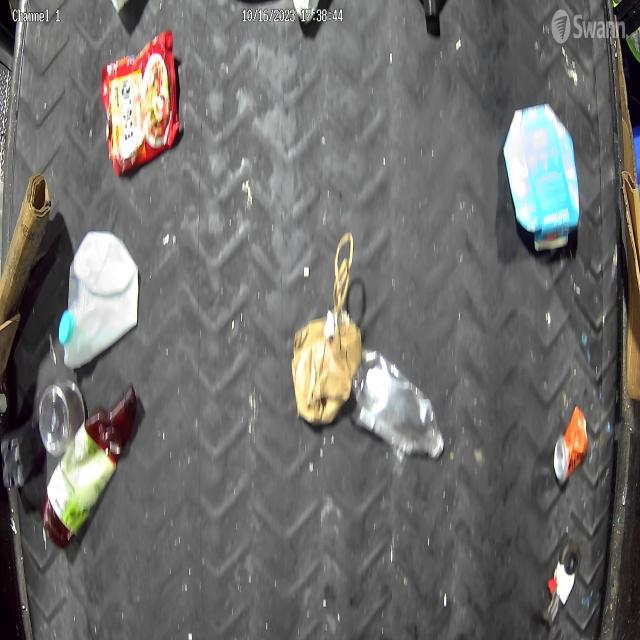can: (554, 410, 590, 486)
milk_jug: (60, 233, 142, 367)
plastic_bottle: (365, 352, 443, 464)
